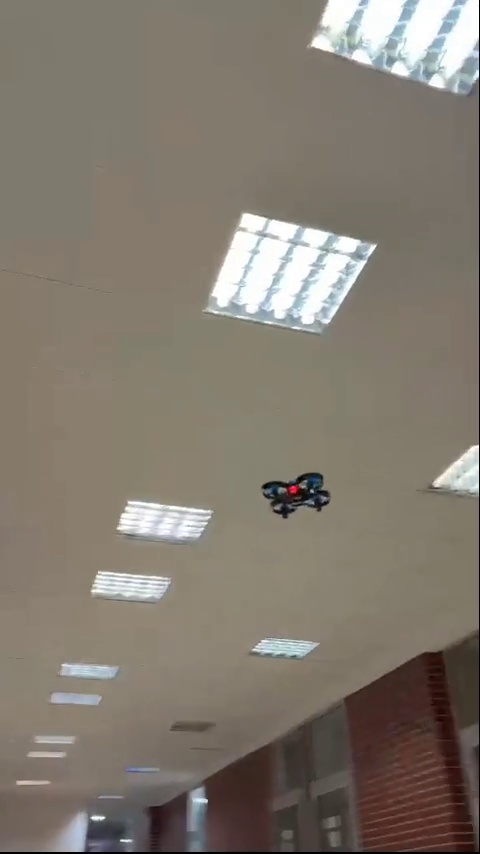drone: (260, 469, 330, 517)
